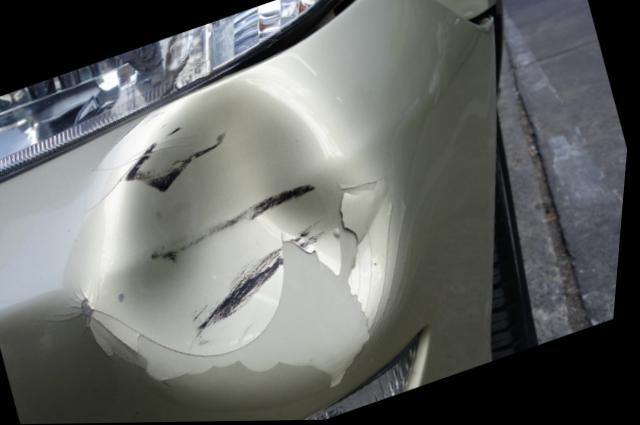dent: (97, 77, 392, 400)
